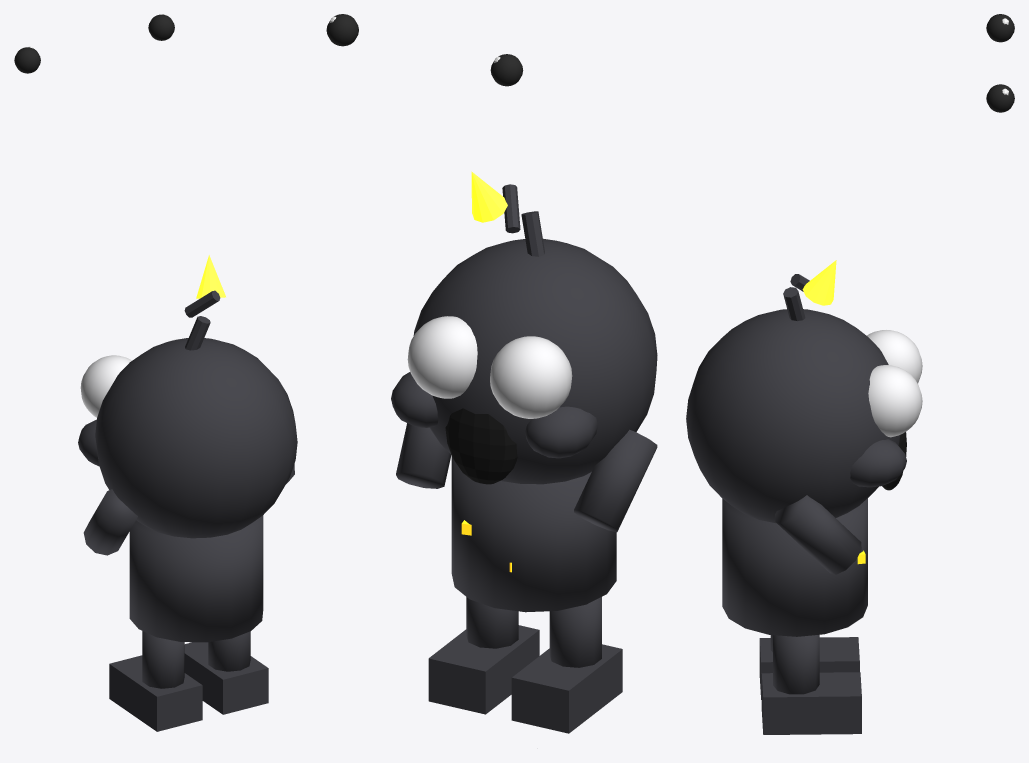
File: player-charred.glb
3 renders of one model, left to right at view 1: azimuth 30°, elevation 25°; view 2: azimuth 150°, elevation 25°; view 3: azimuth 270°, elevation 25°, orthographic. The views are drawn at different scales.
Parts seen in each view (by area): view 1: Charred_Head, Charred_Torso, Charred_Boot_L, Charred_Boot_R, Charred_Arm_L, Charred_Leg_L, Eye_L, Charred_Leg_R, Charred_Hand_L, Charred_AntennaFlame, Eye_R_Pupil, Eye_L_Pupil (+1 smaller); view 2: Charred_Head, Charred_Torso, Charred_Boot_L, Charred_Boot_R, Eye_L, Eye_R, Charred_Arm_L, Charred_Mouth, Charred_Leg_L, Charred_Hand_L, Charred_Arm_R, Charred_Leg_R (+6 smaller); view 3: Charred_Head, Charred_Torso, Charred_Boot_R, Charred_Arm_R, Eye_R, Charred_Leg_R, Charred_Boot_L, Charred_Hand_R, Eye_L, Charred_AntennaFlame, Eye_R_Pupil, Eye_L_Pupil.
Part boxes in pixels (x1,y1,x2,y2): Charred_Head: [95, 338, 297, 538]; Charred_Torso: [129, 515, 263, 642]; Charred_Boot_L: [109, 655, 202, 731]; Charred_Boot_R: [184, 642, 268, 714]; Charred_Arm_L: [83, 489, 137, 555]; Charred_Leg_L: [142, 631, 184, 688]; Eye_L: [80, 355, 131, 417]; Charred_Leg_R: [208, 631, 250, 671]; Charred_Hand_L: [78, 419, 99, 466]; Charred_AntennaFlame: [196, 255, 225, 298]; Eye_R_Pupil: [148, 14, 174, 40]; Eye_L_Pupil: [14, 47, 40, 73]; Charred_Head: [413, 238, 657, 484]; Charred_Torso: [451, 456, 616, 612]; Charred_Boot_L: [511, 644, 622, 733]; Charred_Boot_R: [428, 625, 539, 714]; Eye_L: [490, 336, 572, 418]; Eye_R: [407, 316, 477, 398]; Charred_Arm_L: [574, 429, 657, 531]; Charred_Mouth: [445, 408, 517, 484]; Charred_Leg_L: [549, 597, 601, 667]; Charred_Hand_L: [525, 406, 597, 458]; Charred_Arm_R: [396, 423, 451, 488]; Charred_Leg_R: [466, 597, 518, 648]; Charred_Head: [686, 309, 900, 523]; Charred_Torso: [722, 498, 867, 636]; Charred_Boot_R: [761, 672, 861, 734]; Charred_Arm_R: [775, 495, 861, 574]; Eye_R: [868, 365, 922, 437]; Charred_Leg_R: [773, 634, 819, 694]; Charred_Boot_L: [759, 637, 859, 699]; Charred_Hand_R: [850, 439, 906, 487]; Eye_L: [867, 330, 922, 383]; Charred_AntennaFlame: [802, 260, 836, 305]; Eye_R_Pupil: [986, 84, 1014, 112]; Eye_L_Pupil: [986, 14, 1014, 42].
Bounding box in the file's own units: 0.9207 × 2.97 × 1.26.
